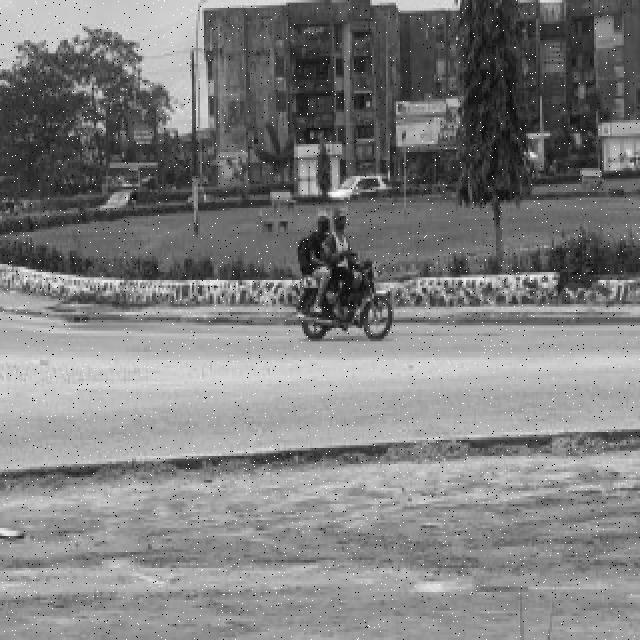Motorbike: (296, 207, 394, 341)
